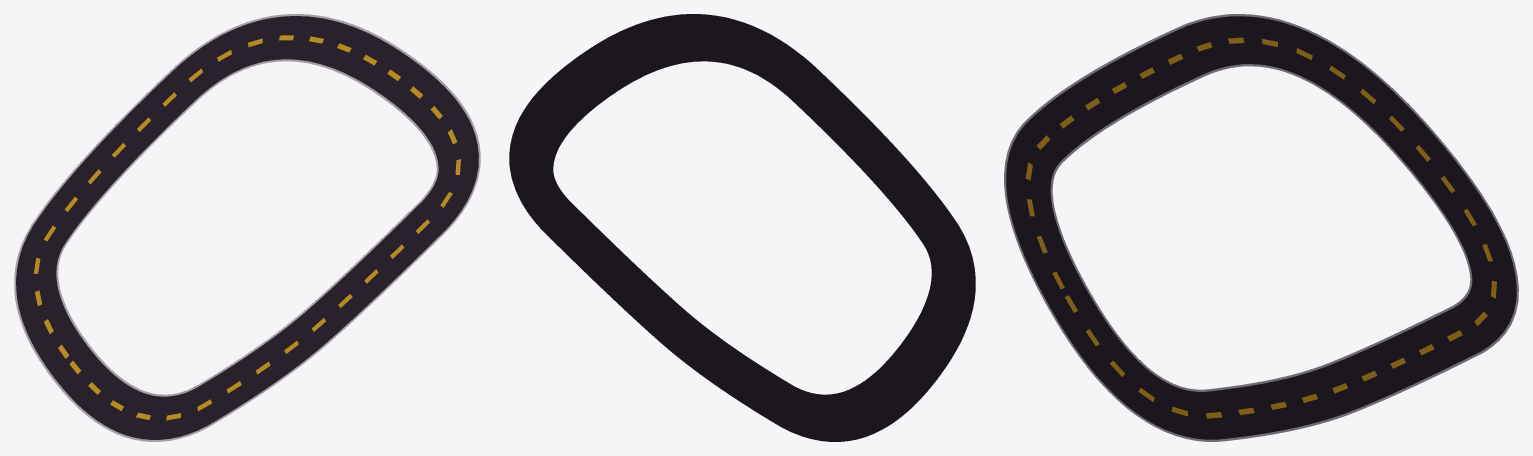
The model's file is track.obj.
The picture shows the model from 3 angles, left to right: view 1: azimuth 30°, elevation 25°; view 2: azimuth 150°, elevation 25°; view 3: azimuth 330°, elevation 25°; orthographic projection. The views are drawn at different scales.
Bounding box in the file's own units: 9.69 × 7.96 × 0.002.
